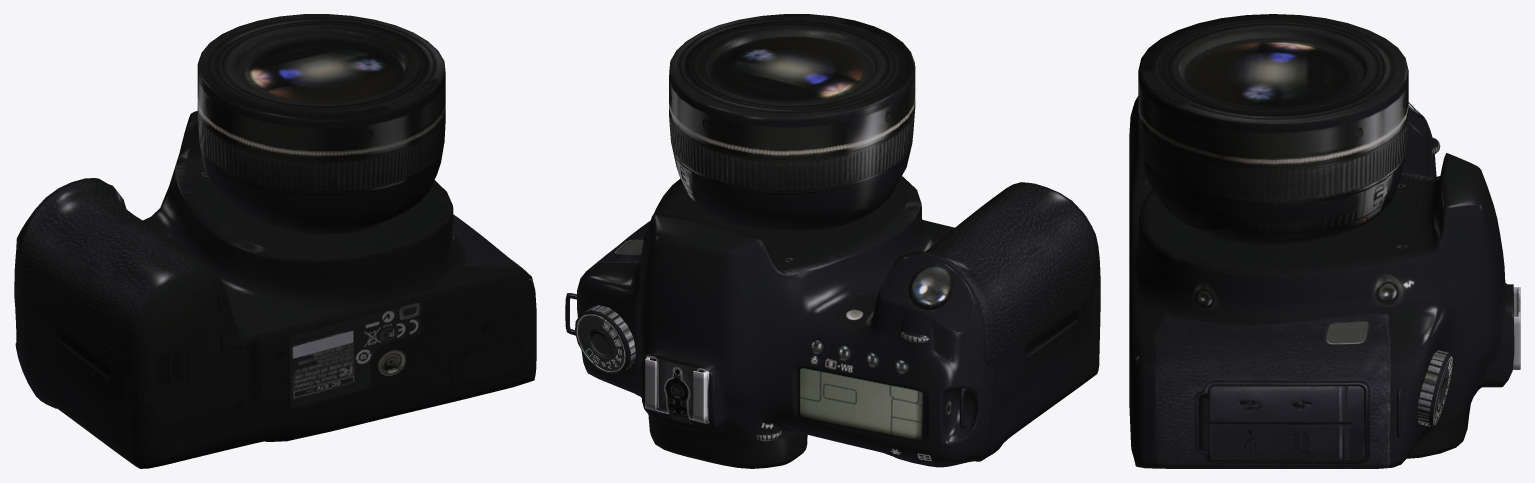
Rendered from camera.FBX.
3 views of the same model, side by side, from view 1: azimuth 30°, elevation 25°; view 2: azimuth 150°, elevation 25°; view 3: azimuth 270°, elevation 25° (orthographic). The views are drawn at different scales.
Parts seen in each view (by area): view 1: Object001; view 2: Object001; view 3: Object001.
Part boxes in pixels (box(x1,y1,x2,y2)): Object001: box(14, 14, 536, 468); Object001: box(565, 14, 1100, 468); Object001: box(1129, 14, 1520, 468).
Bounding box in the file's own units: 33.65 × 25.54 × 25.56.
